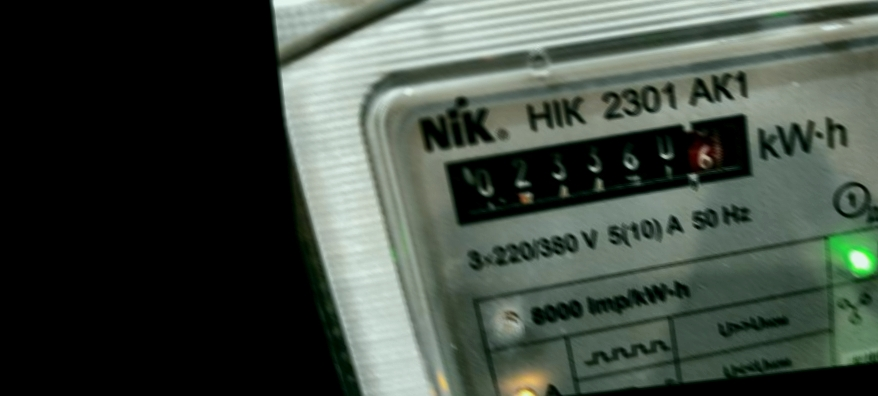0: (471, 162, 497, 198), (651, 128, 677, 161)
2: (509, 153, 533, 188)
3: (582, 138, 605, 173), (545, 148, 567, 181)
6: (617, 136, 642, 171), (693, 136, 717, 172)
screen: (426, 101, 772, 232)
